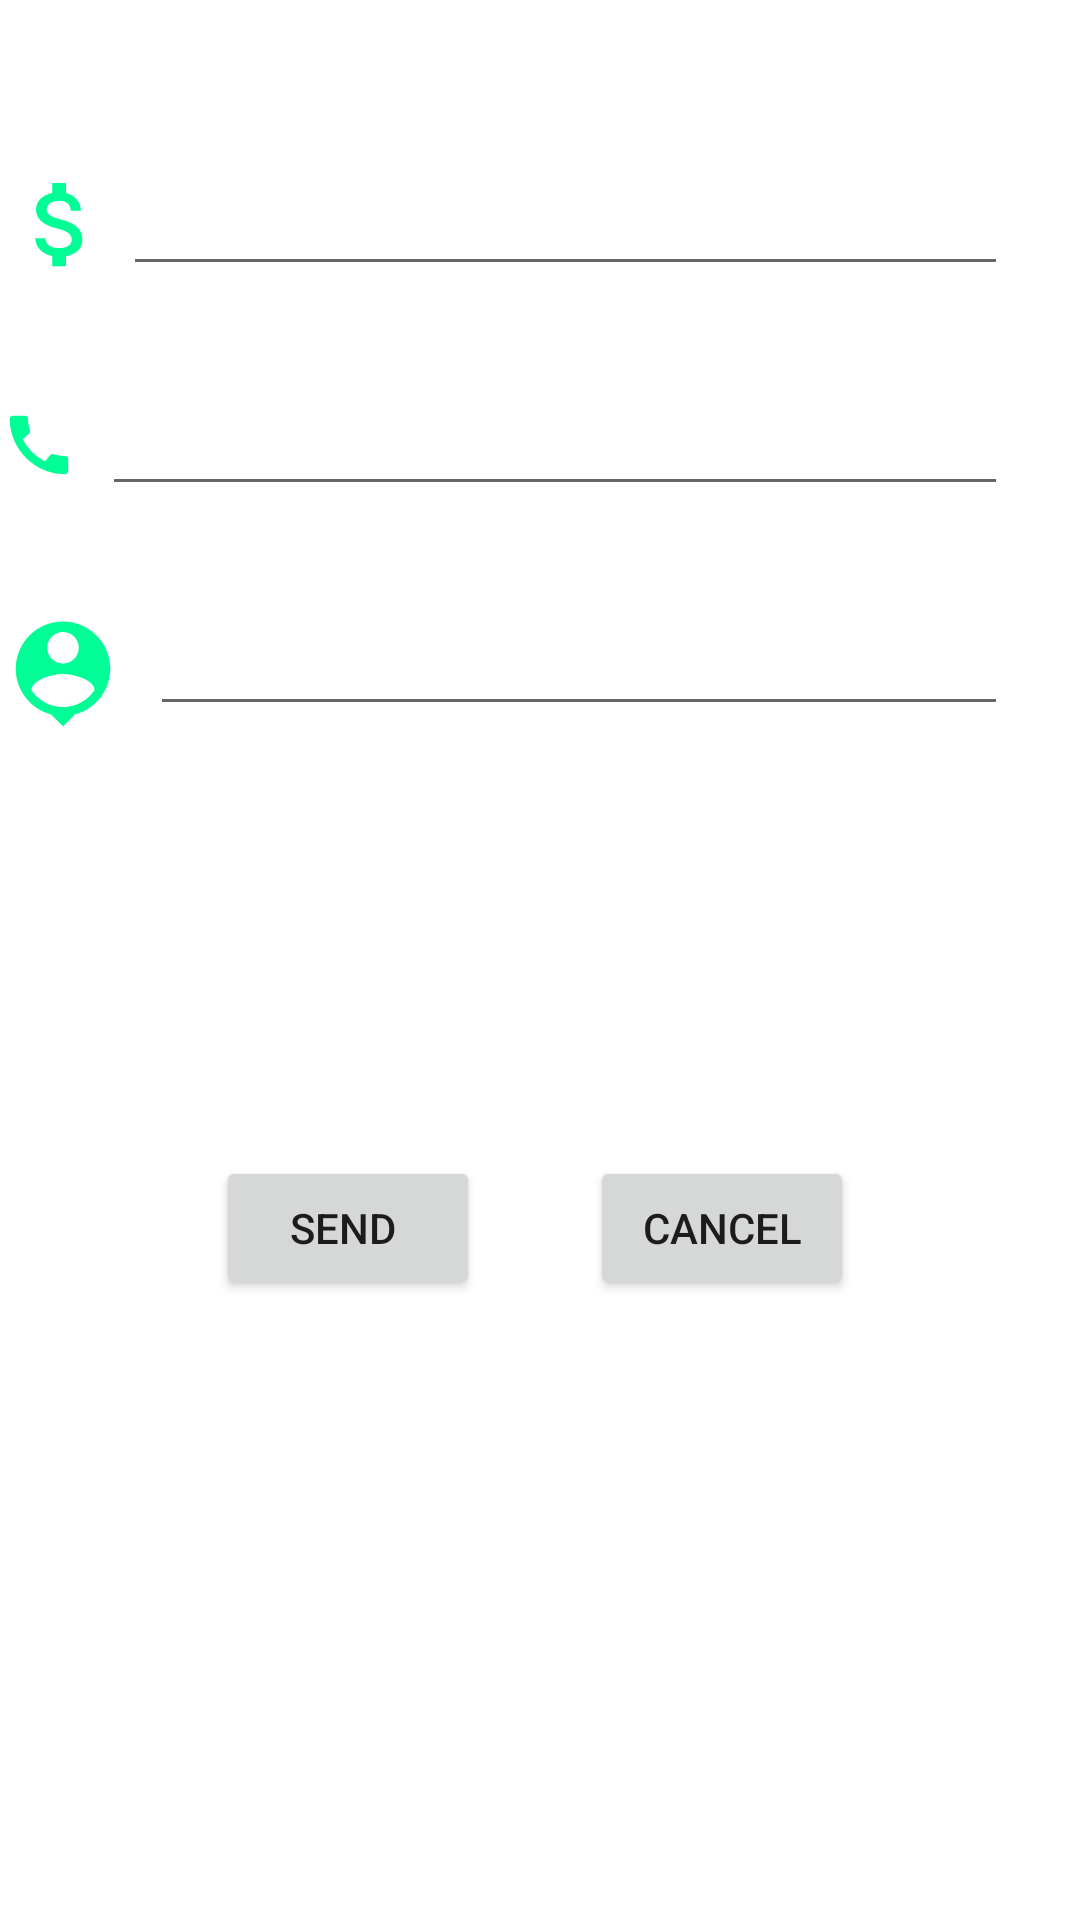

Point at icon controls on the screen. Image size 1080px×1920px, points as [x,y].
attach money: [59,225]
call: [39,445]
person pin: [63,674]
